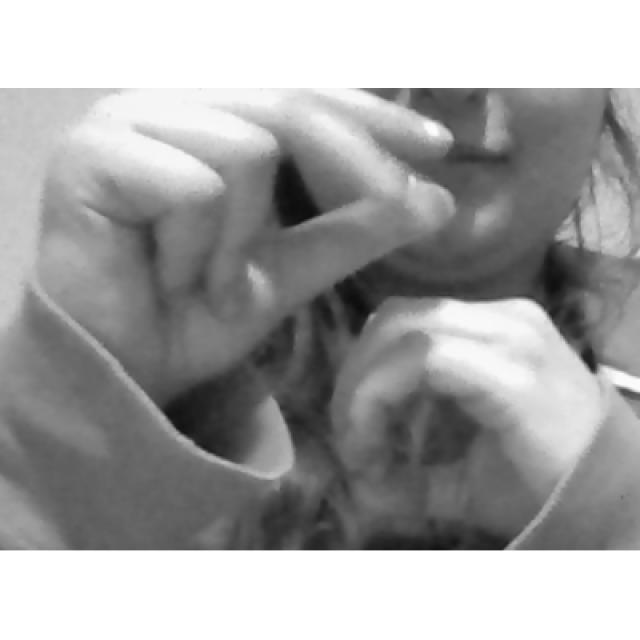O--: (5, 69, 640, 566)
